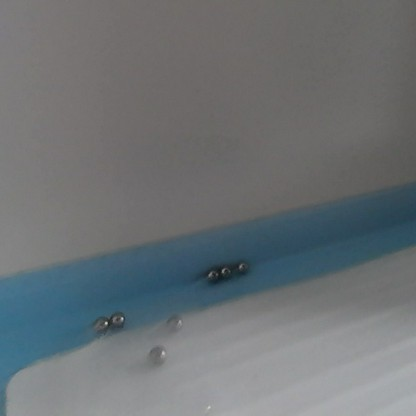ironball: (162, 312, 183, 334), (147, 344, 168, 366), (107, 309, 128, 330), (91, 315, 111, 335), (231, 256, 250, 274), (218, 263, 234, 281), (203, 266, 217, 282)
